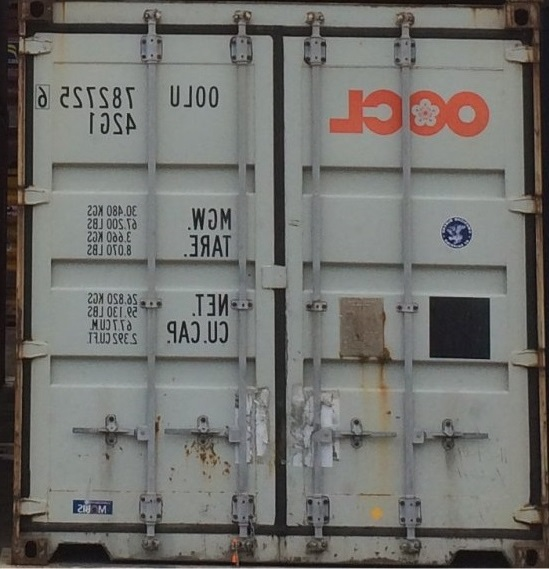container_door: (15, 8, 533, 560)
